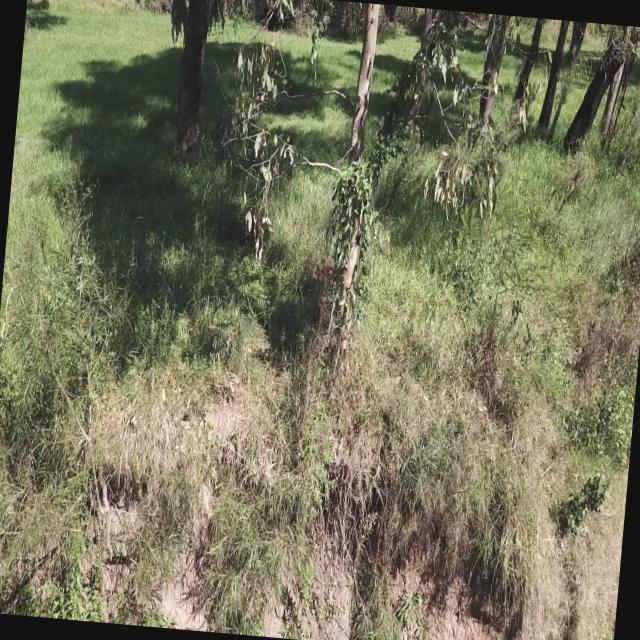Mysore-Thorn-Weed: (194, 248, 280, 401)
